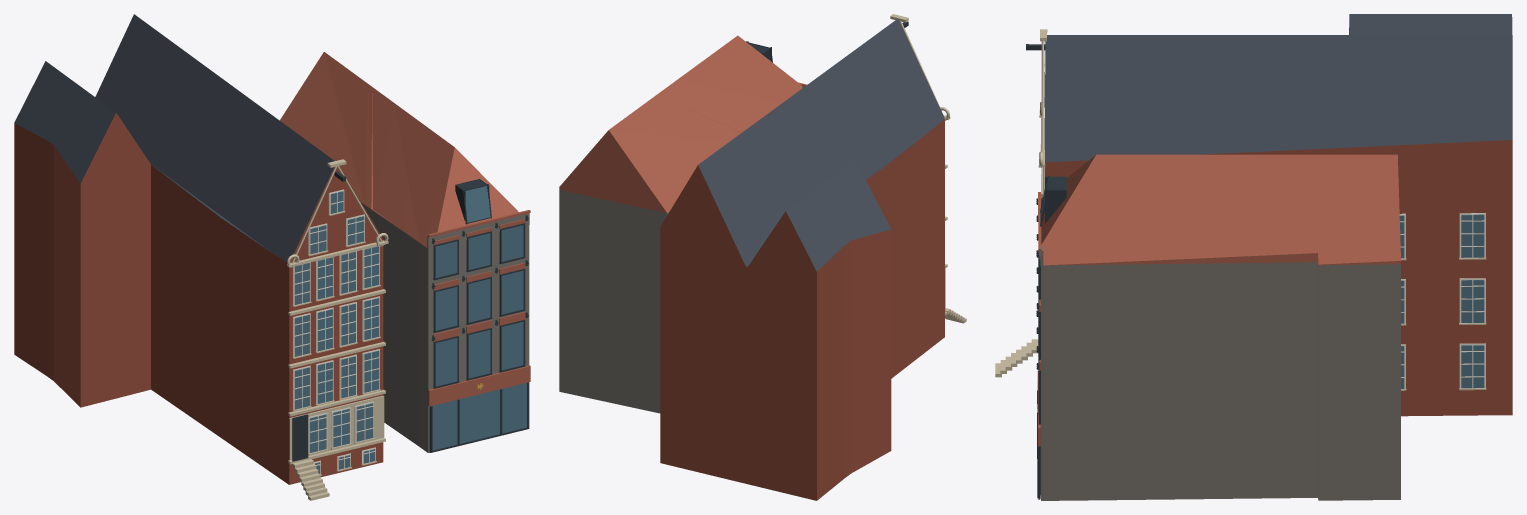
Rendered from ons-lieve-heer-op-solder.glb.
The picture shows the model from 3 angles, left to right: view 1: azimuth 30°, elevation 25°; view 2: azimuth 150°, elevation 25°; view 3: azimuth 270°, elevation 25°; orthographic projection. The views are drawn at different scales.
Parts seen in each view (by area): view 1: ons-lieve-heer-op-solder; view 2: ons-lieve-heer-op-solder; view 3: ons-lieve-heer-op-solder.
Part boxes in pixels (<box>): ons-lieve-heer-op-solder: <box>14,14,530,500</box>; ons-lieve-heer-op-solder: <box>559,14,966,500</box>; ons-lieve-heer-op-solder: <box>995,14,1512,500</box>.
Bounding box in the file's own units: 21 × 19.85 × 25.89.
